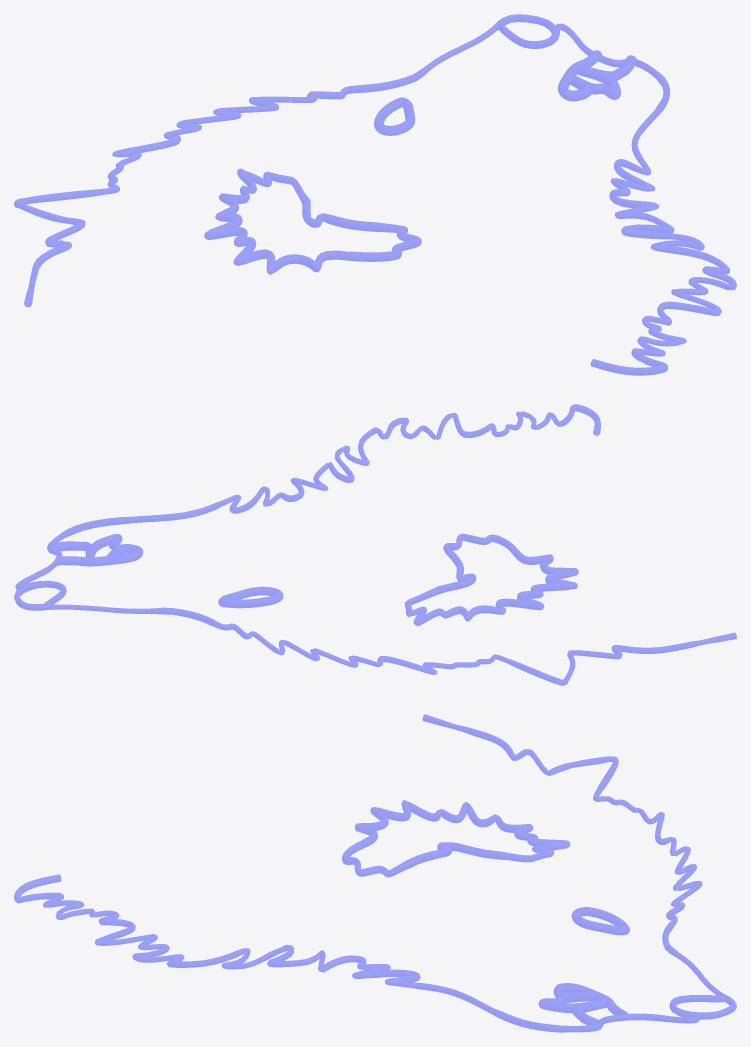
Rendered from wolf-constellation.glb.
3 views of the same model, one above another, from view 1: azimuth 30°, elevation 25°; view 2: azimuth 150°, elevation 25°; view 3: azimuth 270°, elevation 25° (orthographic). The views are drawn at different scales.
Parts seen in each view (by area): view 1: Retopo_NurbsPath.009; view 2: Retopo_NurbsPath.009; view 3: Retopo_NurbsPath.009.
Part boxes in pixels (x1,y1,x2,y2): Retopo_NurbsPath.009: (14,14,736,375); Retopo_NurbsPath.009: (14,404,736,685); Retopo_NurbsPath.009: (14,714,736,1032).
Bounding box in the file's own units: 3.5 × 0.0507 × 3.41.
